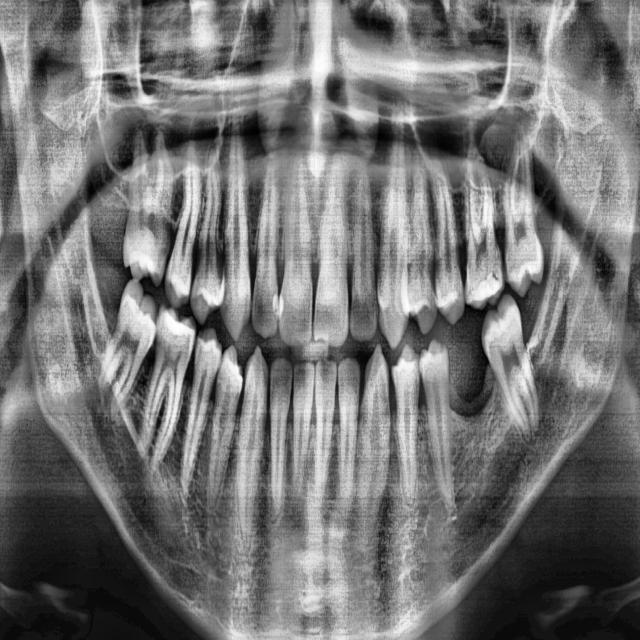karies: (270, 290, 290, 326)
